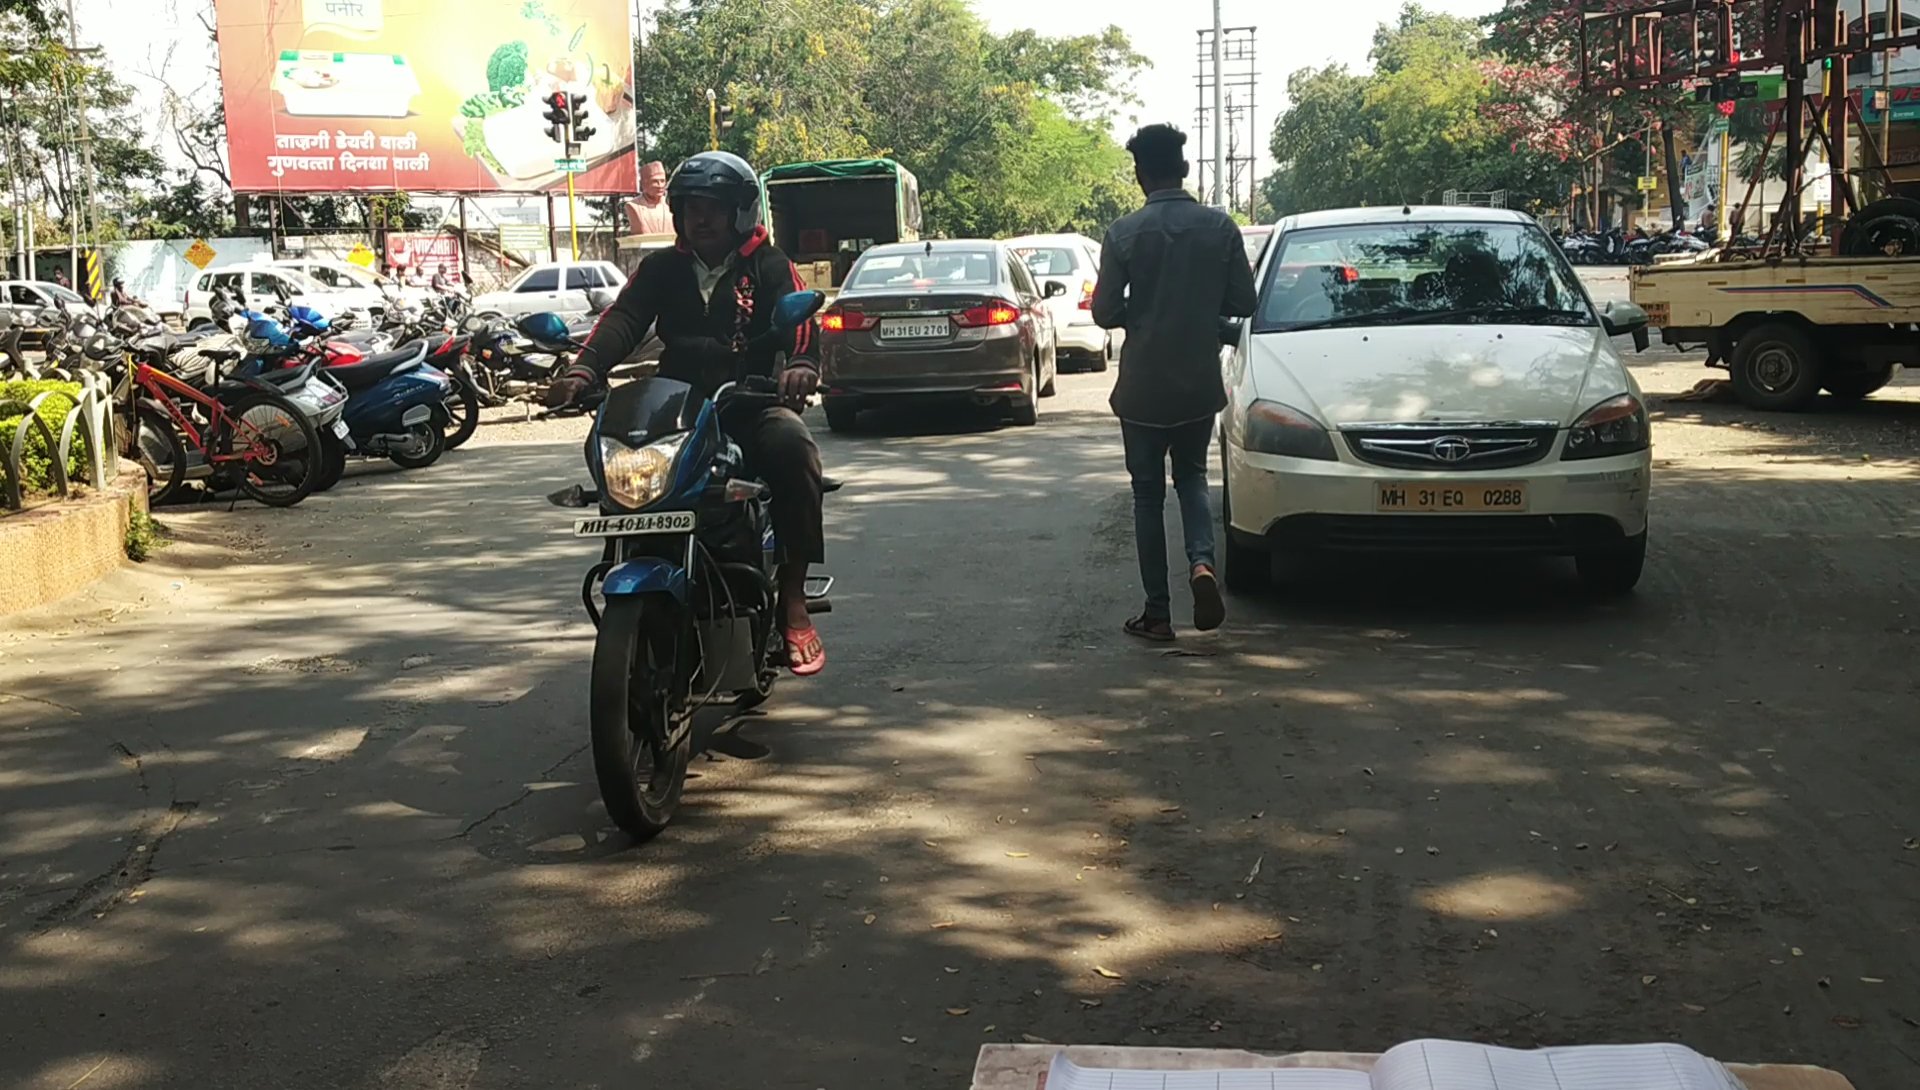car: (1226, 193, 1666, 614)
numplate: (1377, 479, 1531, 514)
